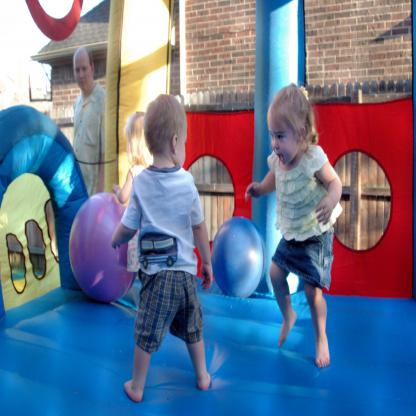Ball: (70, 194, 136, 302), (211, 218, 263, 298)
